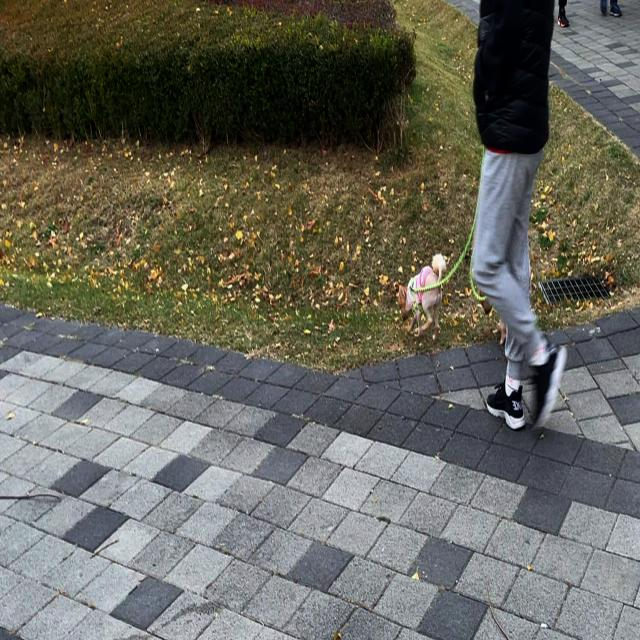Leashed_Dog: (396, 132, 502, 344)
